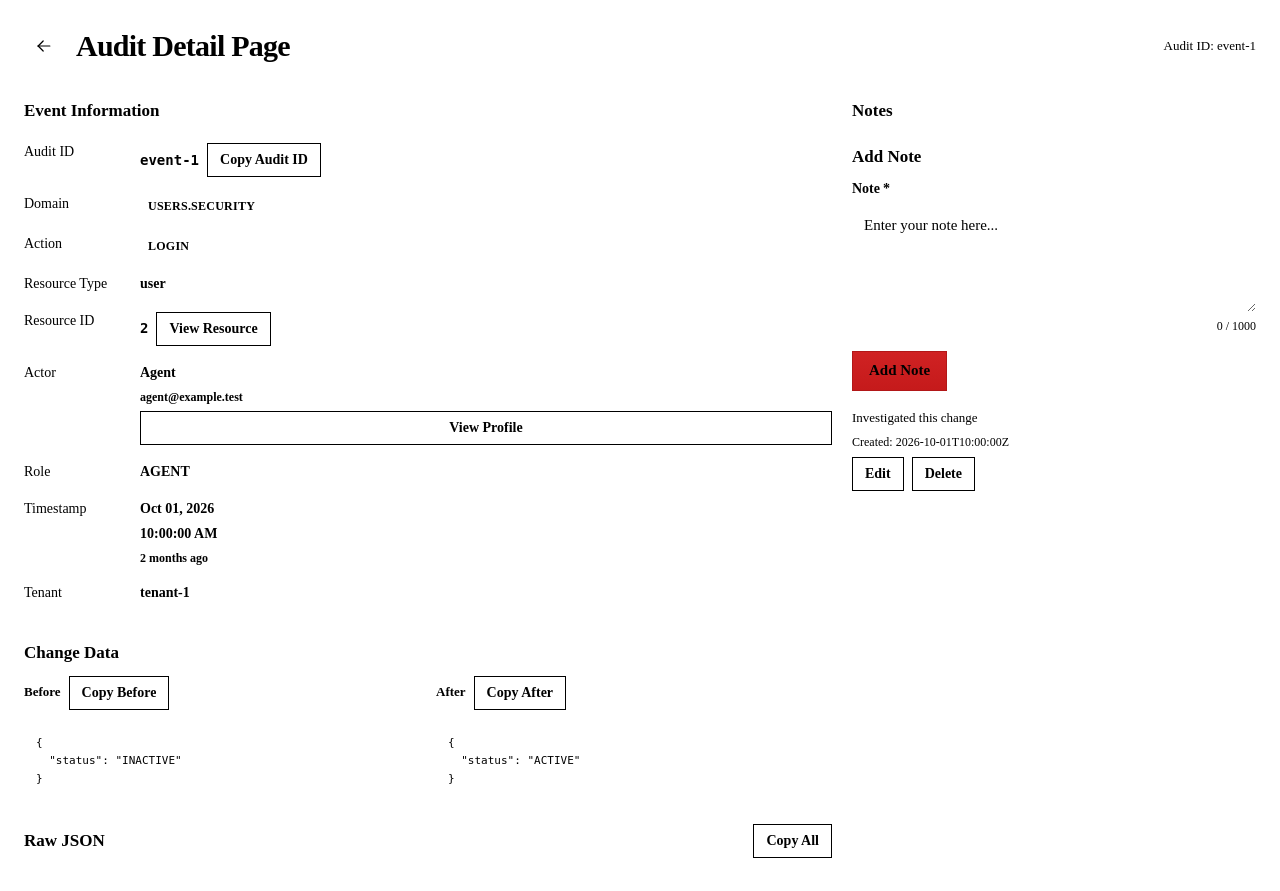
Test: audit detail and annotations contracts › an admin sign-in names an admin account: View Resource opens Support Admins (SYS-14)
This screenshot has width=1280, height=891.
Step 1. Click the button "View Resource" → (214, 329), box x1=156 y1=312 x2=271 y2=346
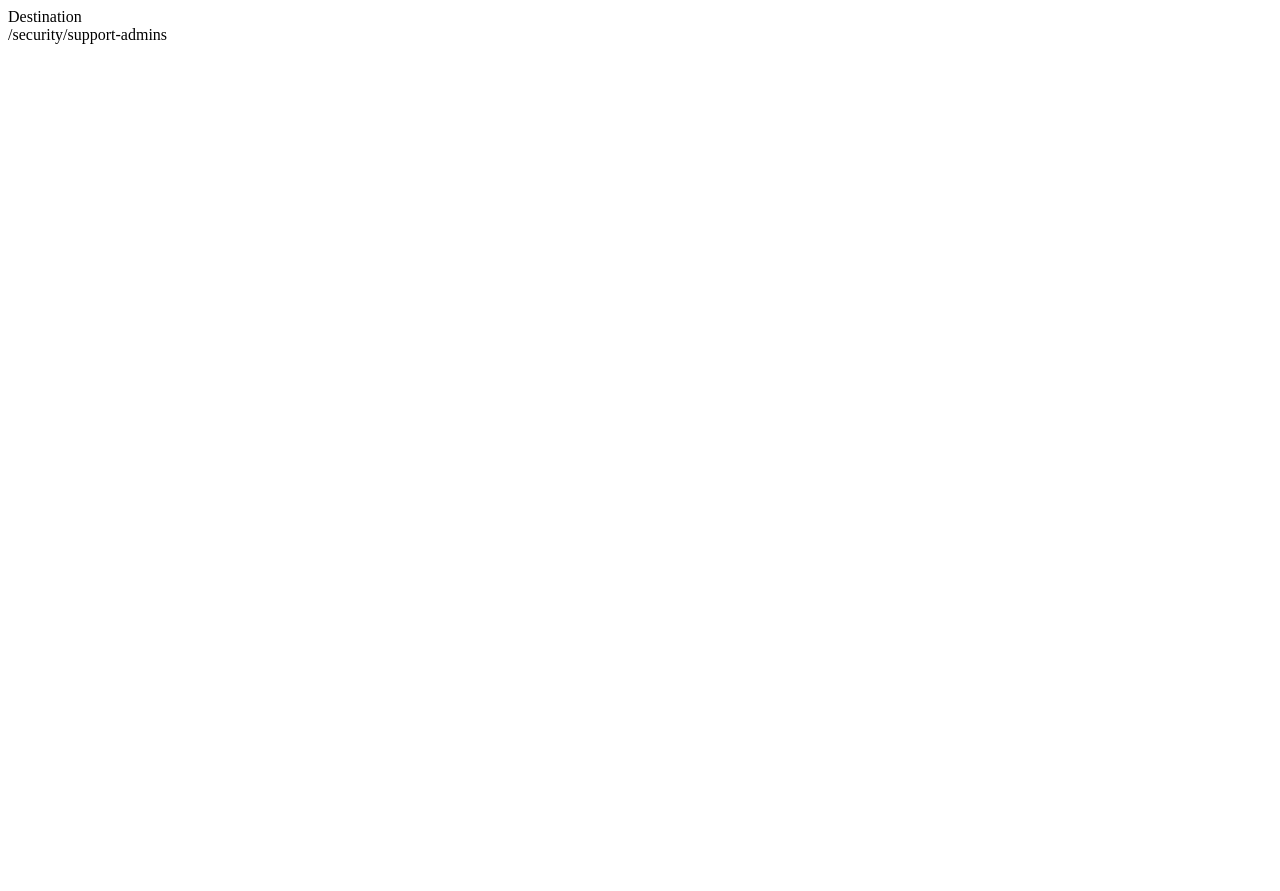
expect the text named "Current route" reads "/security/support-admins": met, box x1=8 y1=26 x2=167 y2=43
